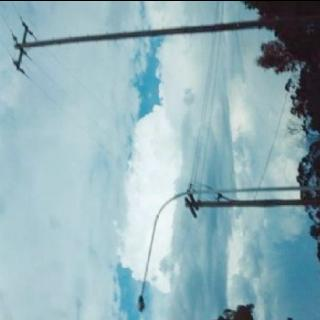Altocumulus: (0, 0, 288, 320)
